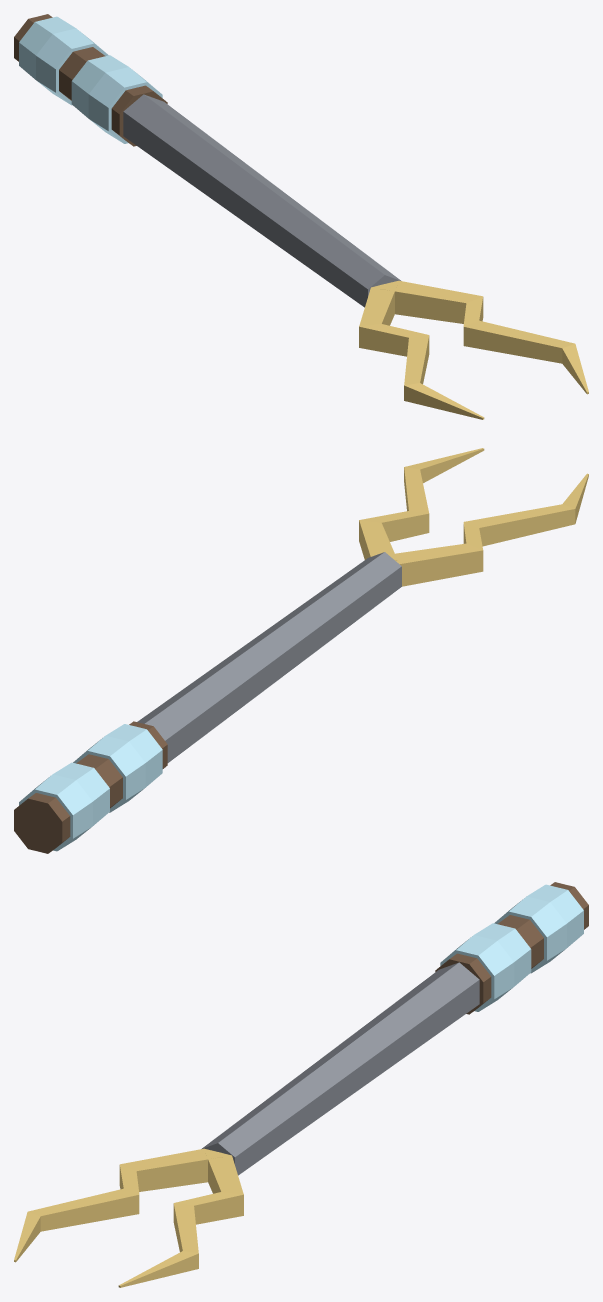
Rendered from stormrod.glb.
3 renders of one model, top to bottom at view 1: azimuth 30°, elevation 25°; view 2: azimuth 150°, elevation 25°; view 3: azimuth 330°, elevation 25°, orthographic.
Visible parts, largest first — view 1: stormrod; view 2: stormrod; view 3: stormrod.
Part boxes in pixels (<box>): stormrod: <box>14,14,588,419</box>; stormrod: <box>14,448,588,853</box>; stormrod: <box>14,882,588,1287</box>.
Bounding box in the file's own units: 0.1312 × 0.0436 × 0.6602.
